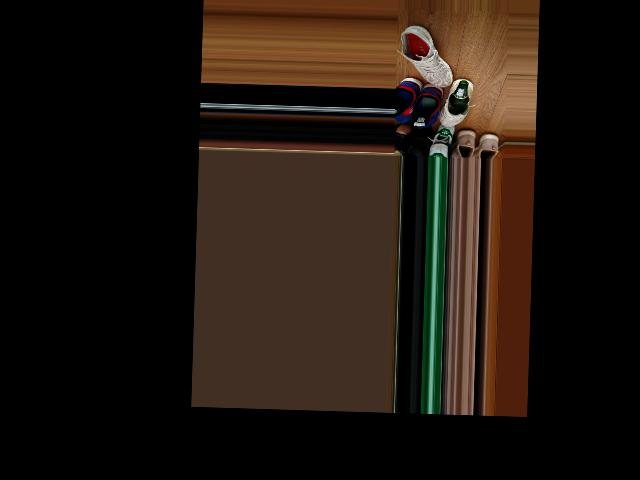beer: (448, 79, 470, 114)
